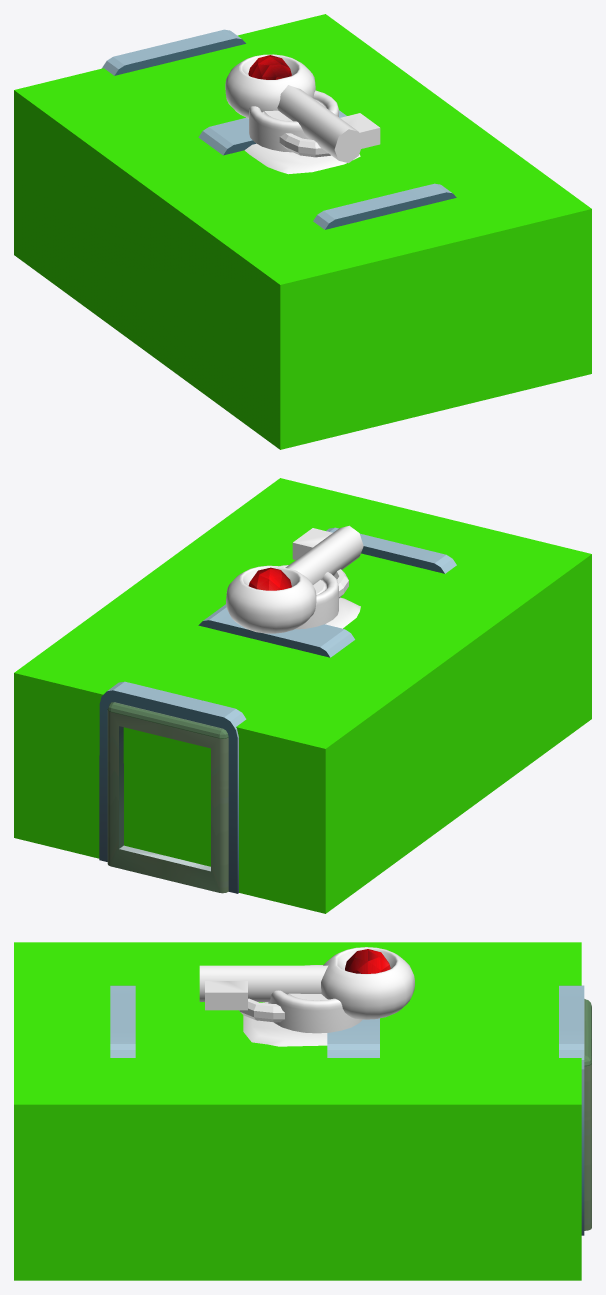
The model's file is 0 Car_FourSeater.fbx.
The picture shows the model from 3 angles, top to bottom: view 1: azimuth 30°, elevation 25°; view 2: azimuth 150°, elevation 25°; view 3: azimuth 270°, elevation 25°; orthographic projection. The views are drawn at different scales.
Visible parts, largest first — view 1: ClickBox, Key, block_lock__1_, lock_model, Car_roof__Removable__color, Lock_001; view 2: ClickBox, block_lock__1_, Key, lock_model, Car_roof__Removable__color; view 3: ClickBox, Key, block_lock__1_, lock_model, Car_roof__Removable__color, Lock_001.
Boxes of the visible parts, bbox=[...] form: ClickBox: bbox=[14, 14, 591, 449]; Key: bbox=[225, 54, 380, 163]; block_lock__1_: bbox=[102, 29, 456, 229]; lock_model: bbox=[249, 90, 338, 152]; Car_roof__Removable__color: bbox=[244, 143, 360, 174]; Lock_001: bbox=[279, 133, 330, 157]; ClickBox: bbox=[14, 478, 591, 913]; block_lock__1_: bbox=[99, 527, 456, 893]; Key: bbox=[226, 525, 363, 633]; lock_model: bbox=[279, 565, 338, 629]; Car_roof__Removable__color: bbox=[325, 597, 360, 628]; ClickBox: bbox=[14, 942, 581, 1280]; Key: bbox=[199, 947, 414, 1019]; block_lock__1_: bbox=[110, 985, 591, 1235]; lock_model: bbox=[268, 965, 362, 1033]; Car_roof__Removable__color: bbox=[243, 1002, 327, 1046]; Lock_001: bbox=[239, 998, 284, 1022].
Bounding box in the file's own units: 377 × 286 × 567.
Materials: 7 (3 with a texture image).
